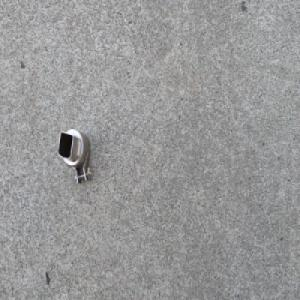MetalPart: (57, 126, 93, 186)
